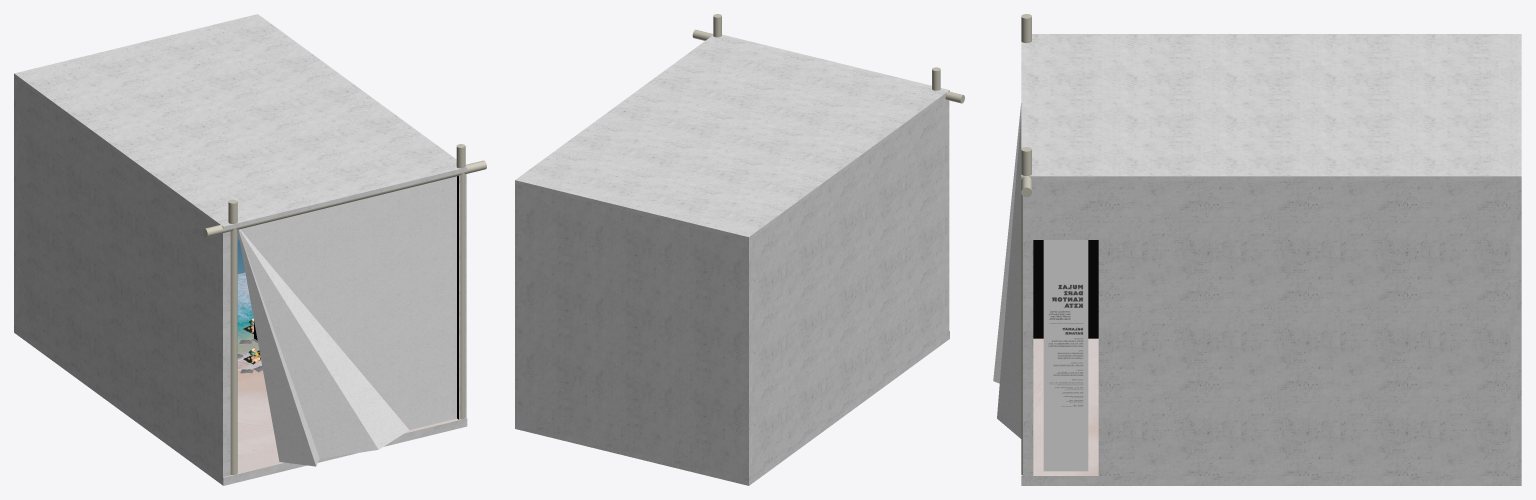
The picture shows the model from 3 angles, left to right: view 1: azimuth 30°, elevation 25°; view 2: azimuth 150°, elevation 25°; view 3: azimuth 270°, elevation 25°; orthographic projection. The views are drawn at different scales.
Parts seen in each view (by area): view 1: dpn, 1222222222222.001, 6, 1.001, 1, 4.001, 4; view 2: 1, 1222222222222.001, 6, 1.001, dpn; view 3: 6, 1222222222222.001, 4, 1.001, 1, dpn, 4.001, 7.
Boxes of the visible parts, box(x1,y1,x2,y2) form: dpn: box(203, 144, 486, 474); 1222222222222.001: box(14, 14, 467, 230); 6: box(18, 81, 222, 476); 1.001: box(14, 79, 459, 482); 1: box(14, 78, 467, 485); 4.001: box(223, 173, 466, 476); 4: box(223, 246, 466, 477); 1: box(515, 184, 949, 485); 1222222222222.001: box(515, 34, 949, 240); 6: box(753, 97, 949, 474); 1.001: box(515, 238, 949, 485); dpn: box(692, 14, 964, 103); 6: box(1022, 181, 1510, 475); 1222222222222.001: box(1021, 34, 1521, 180); 4: box(1043, 240, 1088, 471); 1.001: box(1021, 181, 1521, 485); 1: box(1021, 181, 1521, 485); dpn: box(993, 14, 1031, 474); 4.001: box(1043, 240, 1088, 470); 7: box(1033, 240, 1098, 338).
Bounding box in the file's own units: 1165 × 1115 × 1598.
